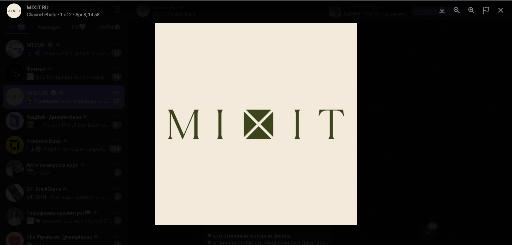telegram: (1, 0, 512, 245)
